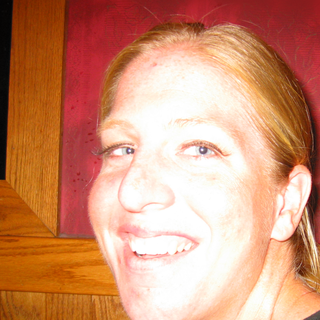eye: (169, 134, 229, 164), (97, 134, 142, 162)
